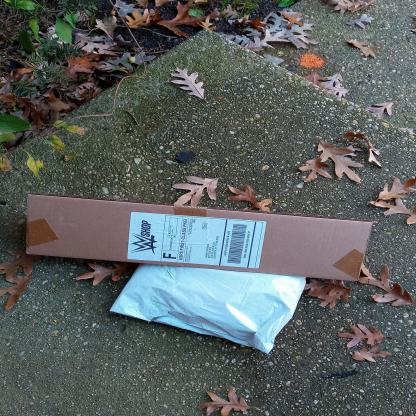package: (26, 193, 373, 281), (109, 264, 306, 354)
